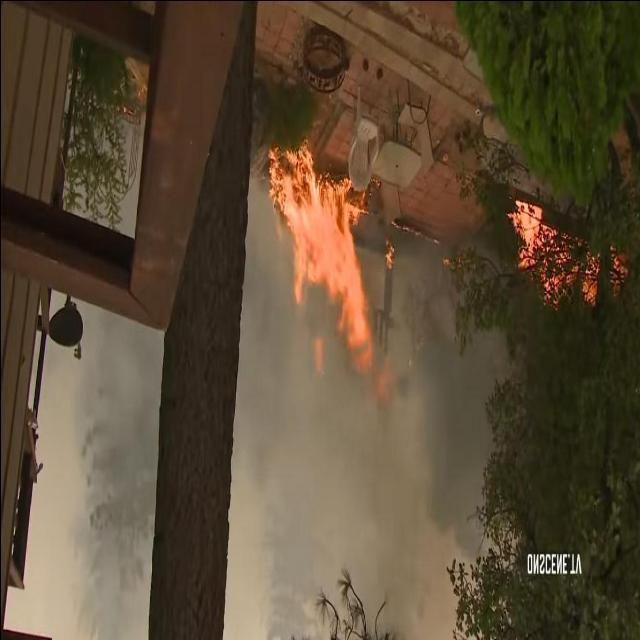Fire: (262, 136, 375, 400), (506, 195, 630, 324)
